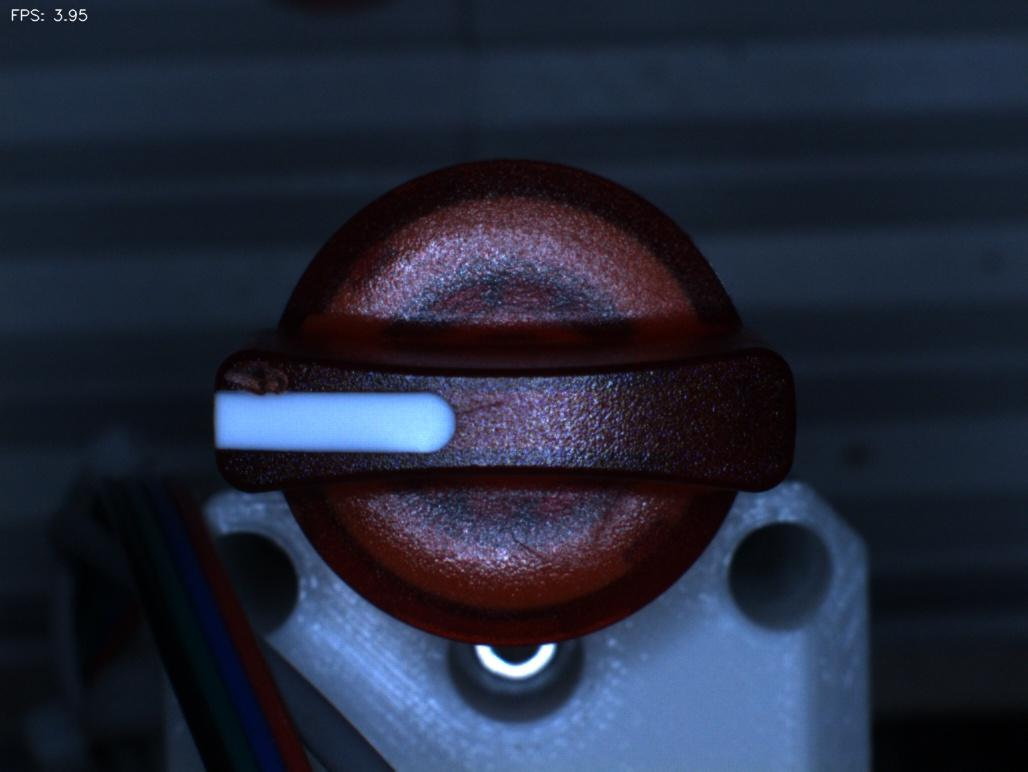Choc: (209, 324, 309, 437)
